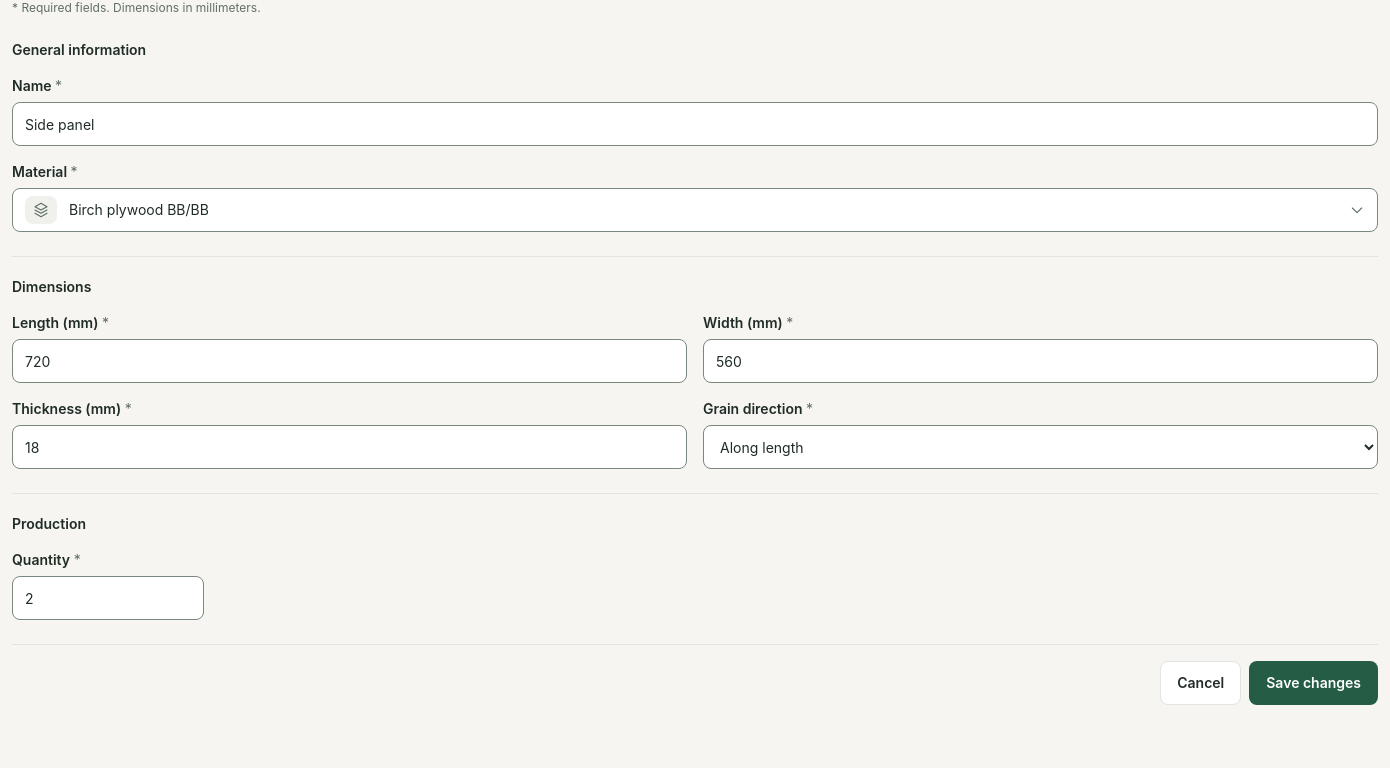
Test: Part form grain and rotation controls › keeps legacy allowed preferences without exposing a misleading grain-constrained control
Submit the form
Select "No grain constraint" in the dropdown labelled "Grain direction *" at [1040, 447], box [703,425,1378,469]
(page scrolled)
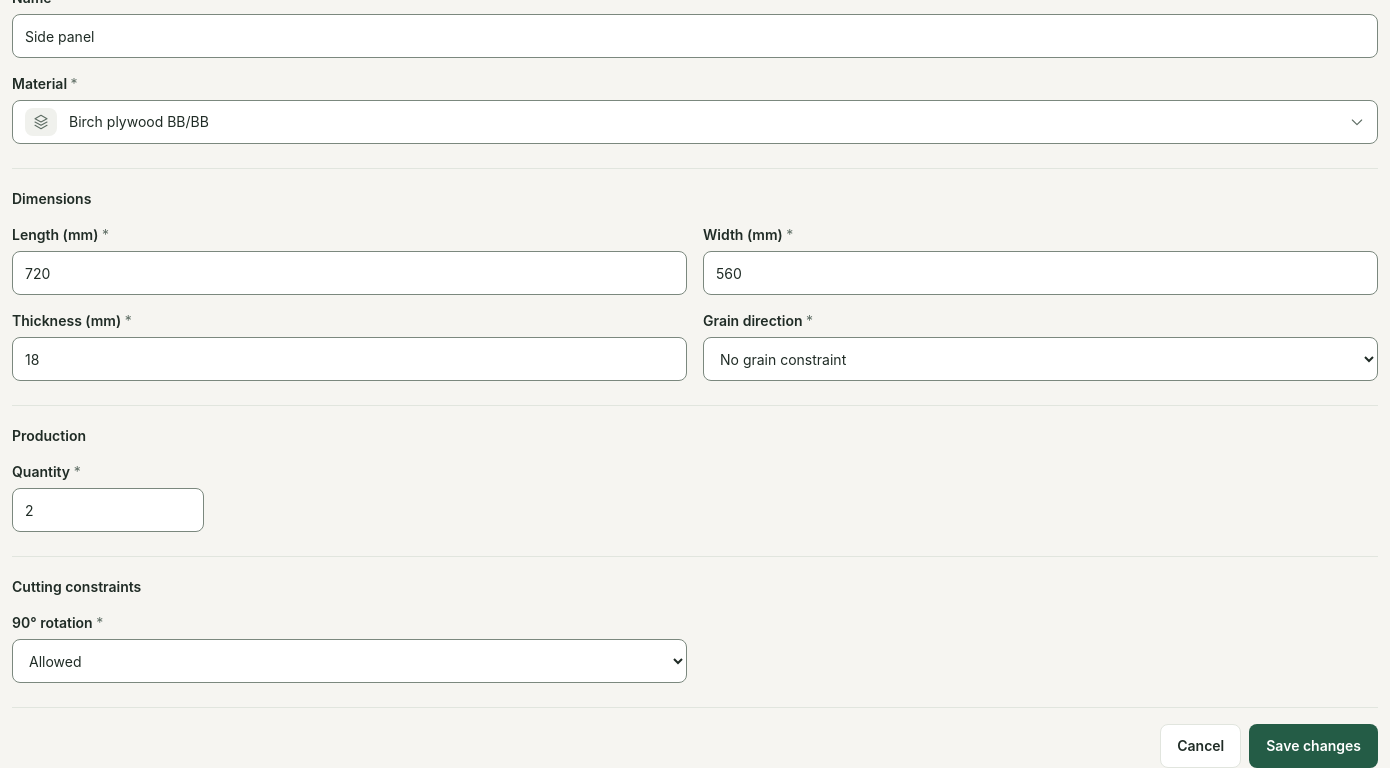
Now the dropdown labelled "90° rotation *" shows "Allowed", box [12,639,687,683]
